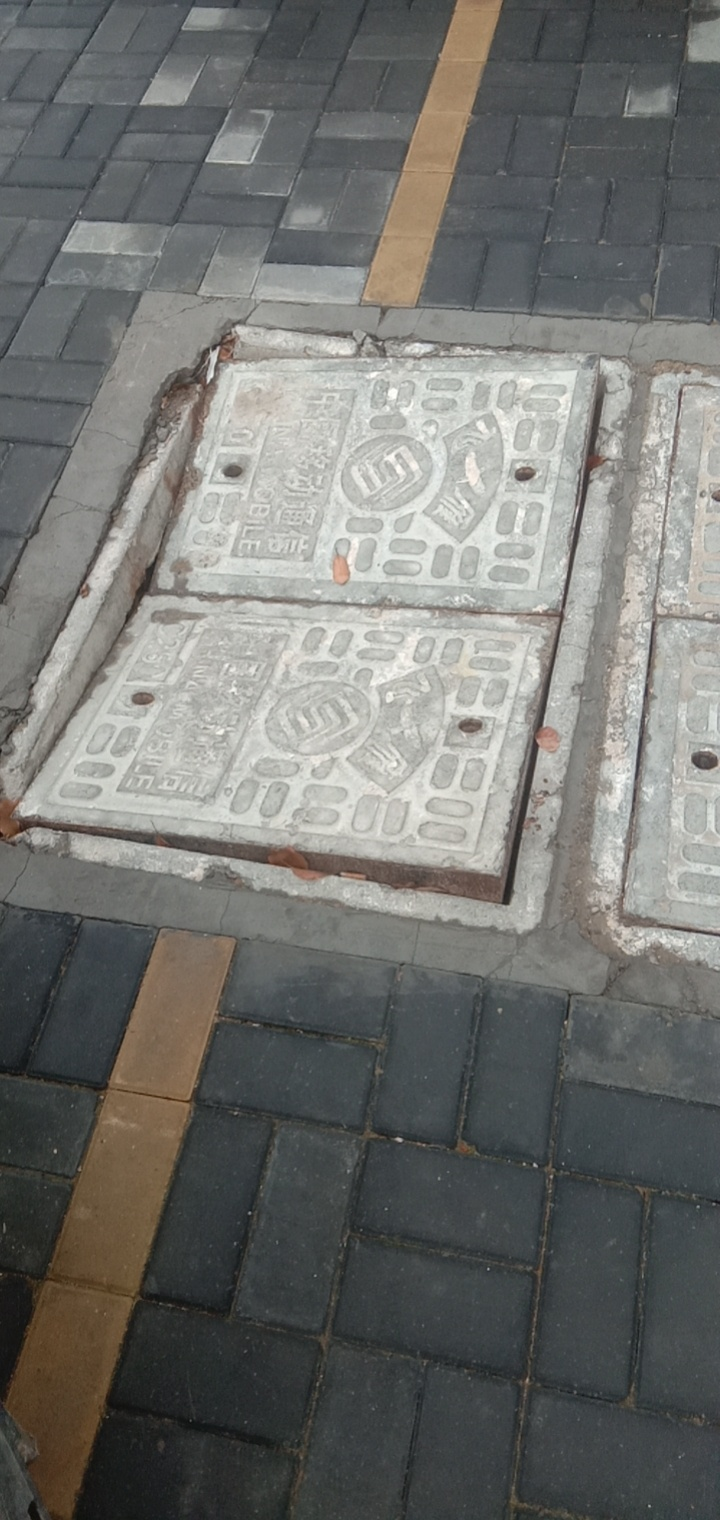uncovered: (8, 322, 633, 934)
